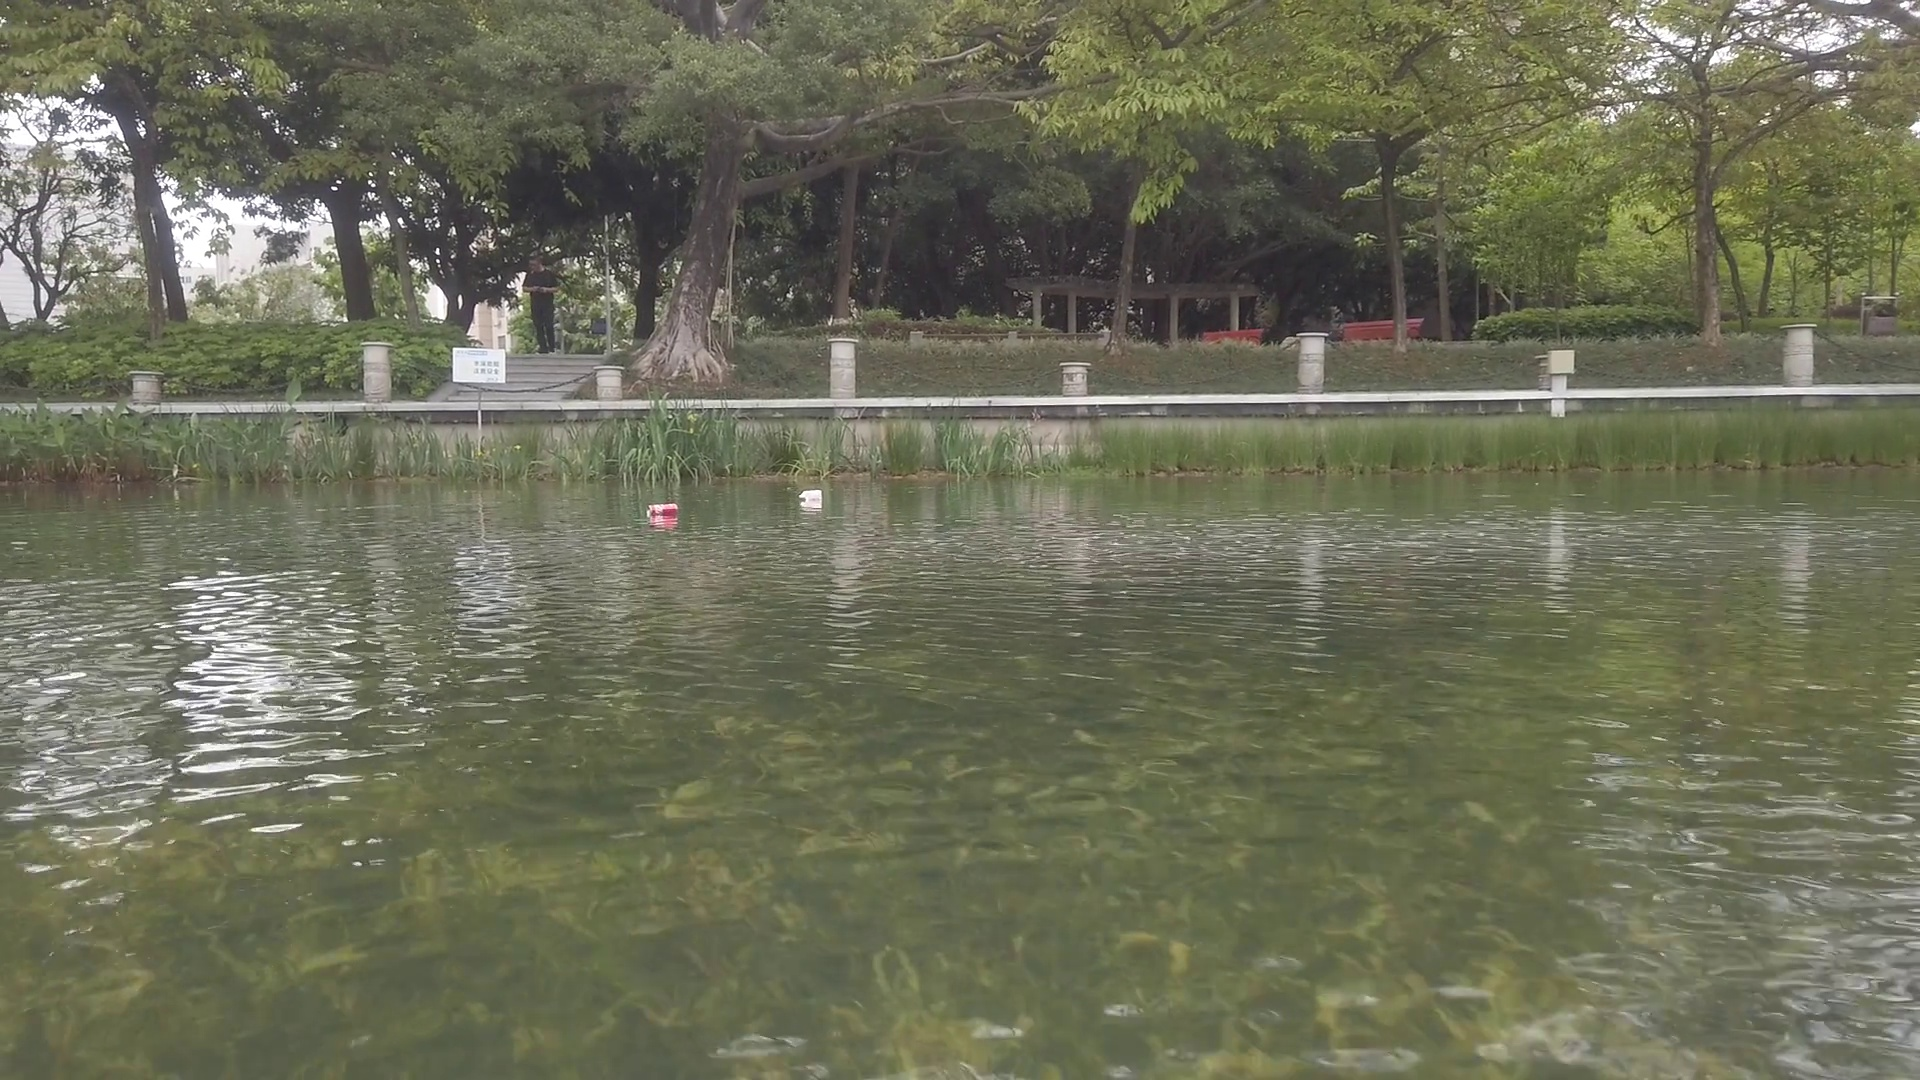bottle: (646, 501, 680, 521)
carton: (800, 491, 823, 504)
